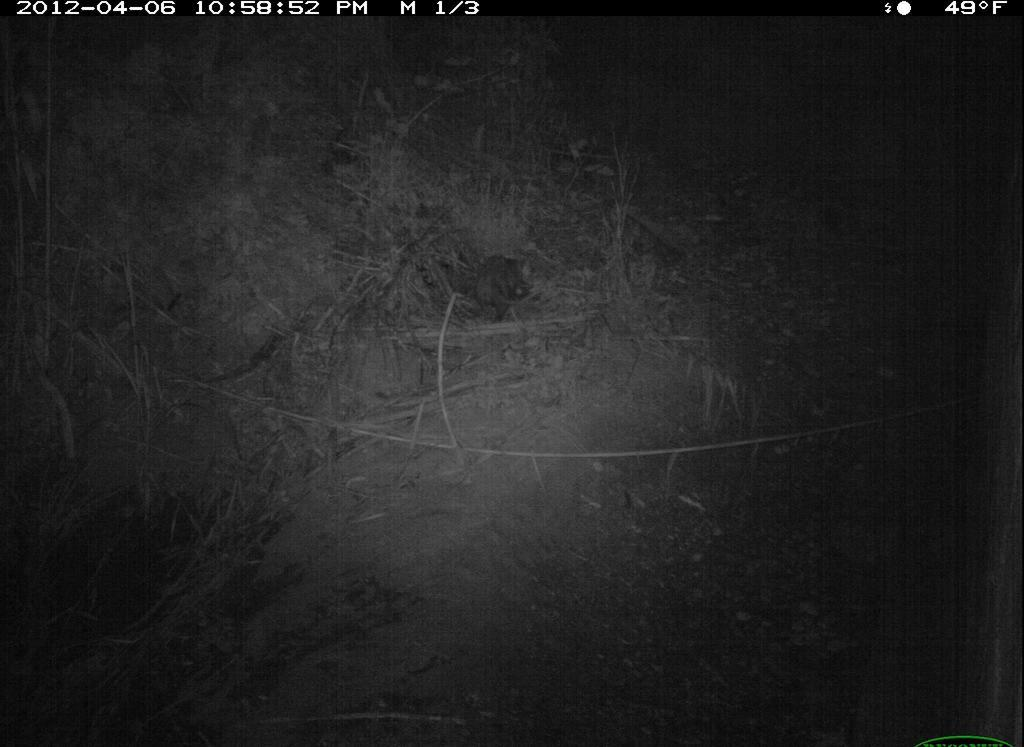opossum: (452, 239, 548, 338)
